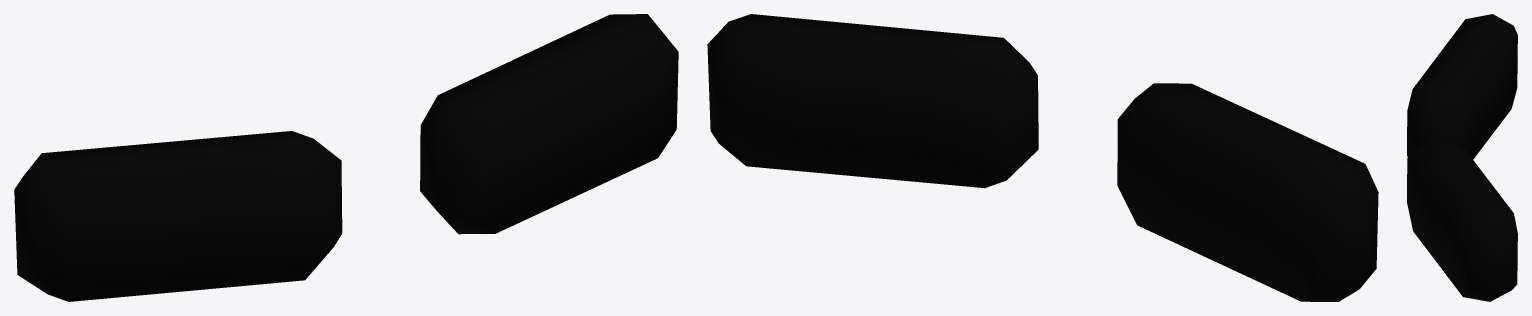
The model's file is eyebrows_06.fbx.
3 renders of one model, left to right at view 1: azimuth 30°, elevation 25°; view 2: azimuth 150°, elevation 25°; view 3: azimuth 270°, elevation 25°, orthographic. The views are drawn at different scales.
Visible parts, largest first — view 1: Eyebrows_06; view 2: Eyebrows_06; view 3: Eyebrows_06.
Boxes of the visible parts, x1=… form: Eyebrows_06: x1=14, y1=14, x2=678, y2=301; Eyebrows_06: x1=707, y1=14, x2=1378, y2=301; Eyebrows_06: x1=1407, y1=14, x2=1517, y2=301.
Size of the model in its own units: 91.25 by 17.77 by 19.99.
